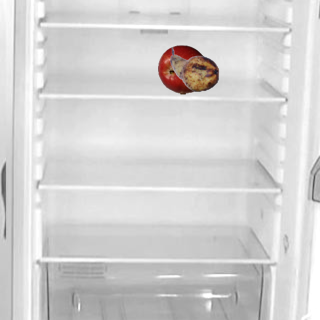Apple Braeburn: (157, 44, 207, 94)
Pear Abate: (169, 44, 219, 94)
